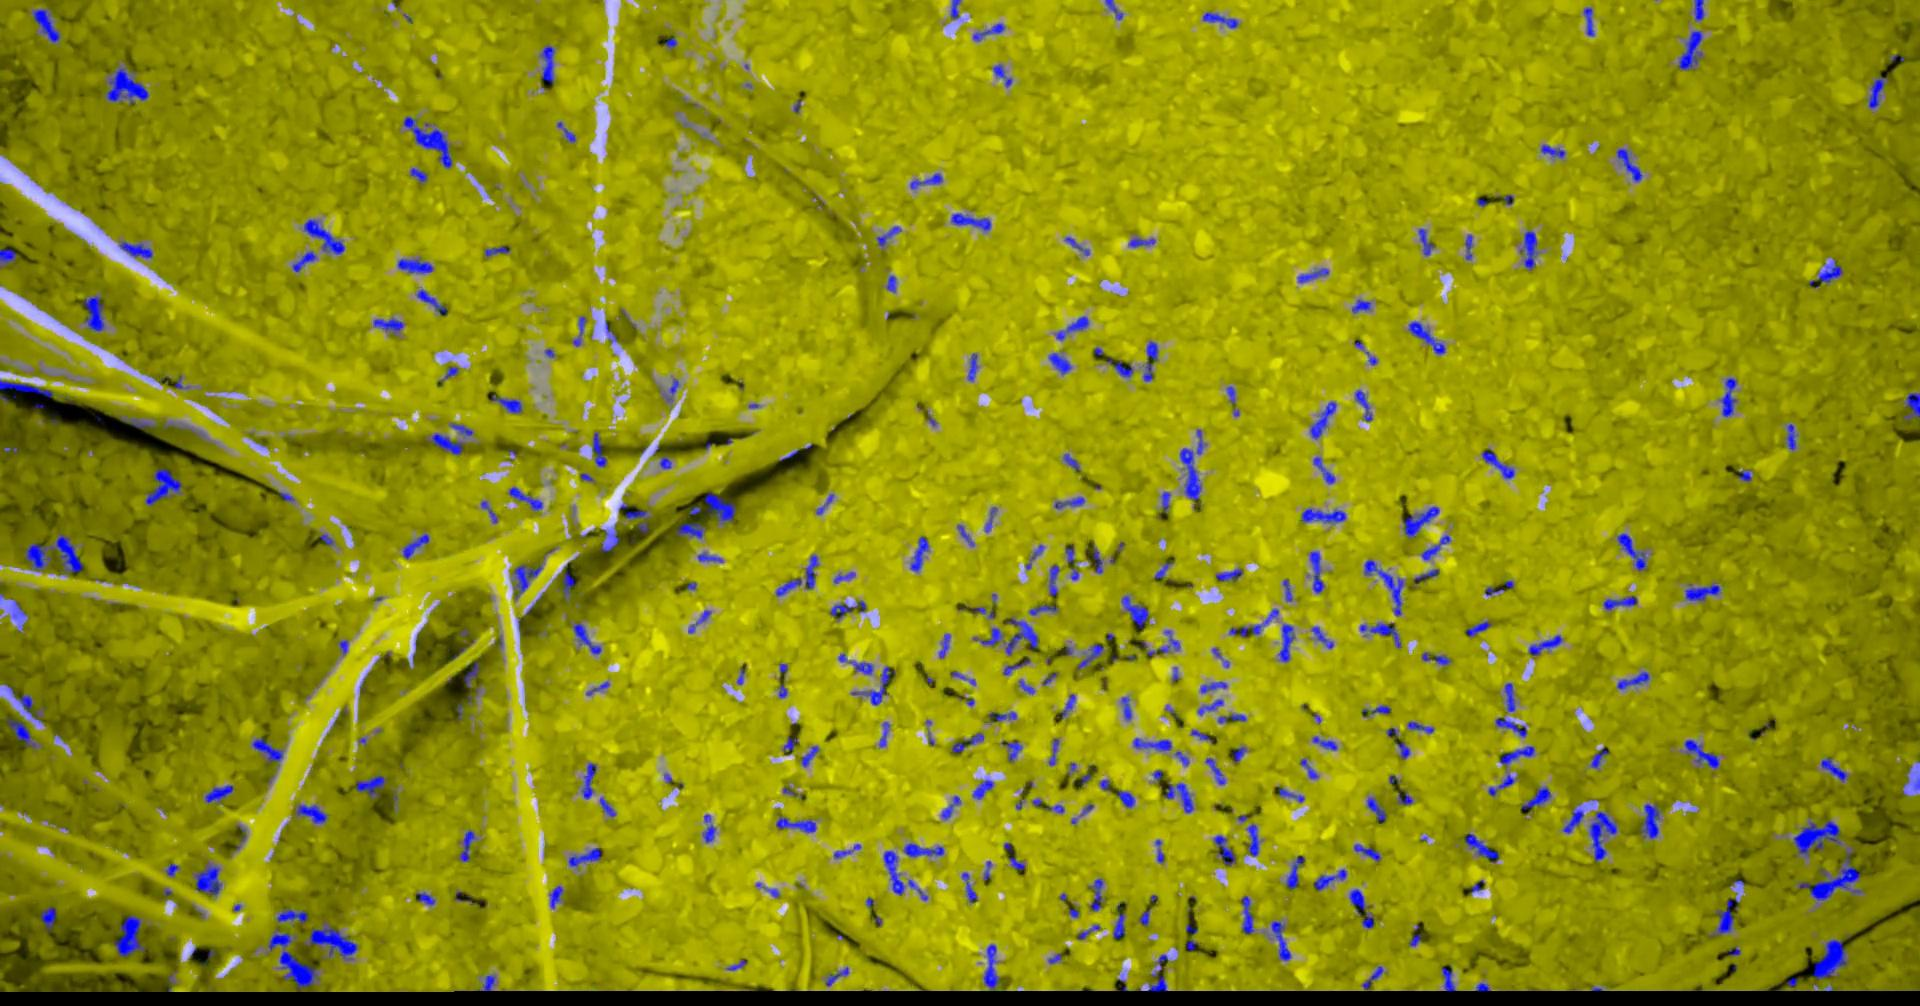ant: (1801, 850, 1863, 901), (269, 929, 320, 989), (405, 116, 453, 168), (25, 533, 84, 573), (885, 850, 930, 901), (1366, 559, 1404, 615), (306, 923, 359, 959), (1181, 429, 1206, 500), (777, 554, 820, 594), (1796, 819, 1843, 856), (853, 666, 897, 705), (108, 67, 150, 103), (305, 218, 345, 254), (1815, 939, 1849, 979), (1230, 608, 1280, 636), (1591, 810, 1618, 861), (147, 467, 183, 504), (1410, 320, 1448, 354), (116, 915, 146, 956), (9, 685, 43, 721), (1, 379, 55, 401), (1007, 617, 1040, 654), (1404, 506, 1441, 537), (1618, 533, 1648, 570), (1712, 898, 1740, 936), (1685, 739, 1721, 768), (1140, 630, 1181, 655), (1310, 401, 1337, 439), (1465, 833, 1500, 862), (1361, 622, 1402, 647), (1679, 30, 1704, 69), (1123, 594, 1150, 629), (706, 493, 737, 523), (620, 502, 650, 532), (574, 622, 603, 654), (1483, 450, 1516, 478), (516, 564, 543, 597), (34, 8, 61, 42), (254, 735, 284, 765), (1166, 781, 1195, 812), (9, 716, 37, 747), (197, 864, 223, 895), (1618, 149, 1643, 180), (510, 486, 543, 511), (84, 295, 105, 332), (1272, 920, 1291, 960), (1641, 803, 1662, 838), (418, 290, 450, 314), (1058, 316, 1090, 340), (1316, 868, 1349, 890), (1149, 954, 1170, 991), (1530, 634, 1563, 655), (841, 653, 874, 674), (1078, 643, 1105, 669), (830, 600, 867, 619), (985, 944, 1001, 989), (1501, 746, 1537, 765), (1423, 535, 1451, 559), (430, 433, 463, 453), (952, 732, 985, 752), (1523, 786, 1552, 809), (357, 775, 387, 796), (1215, 835, 1237, 865), (952, 213, 992, 230), (1521, 230, 1538, 269), (1722, 377, 1738, 417), (1869, 76, 1890, 108), (404, 533, 430, 558), (1822, 757, 1849, 781), (912, 536, 930, 572), (563, 567, 582, 600), (570, 847, 603, 866), (1303, 508, 1347, 522), (1144, 340, 1159, 381), (1310, 551, 1326, 592), (1280, 624, 1297, 661), (1004, 842, 1026, 870), (777, 817, 817, 832), (1204, 11, 1239, 28), (1686, 583, 1722, 600), (1618, 671, 1651, 688), (1288, 855, 1305, 888), (493, 394, 523, 413), (1497, 716, 1528, 735), (298, 804, 329, 823), (1490, 774, 1516, 795), (582, 763, 598, 798), (974, 23, 1006, 41), (1818, 260, 1844, 282), (121, 241, 154, 258), (399, 258, 434, 273), (593, 432, 608, 467), (1316, 456, 1336, 483), (542, 44, 556, 83), (461, 829, 477, 861), (690, 610, 712, 633), (1364, 965, 1385, 989), (206, 784, 235, 801), (1109, 357, 1134, 377), (1356, 390, 1373, 420), (1134, 737, 1173, 749), (905, 843, 945, 856), (975, 627, 1003, 645), (1050, 352, 1073, 373), (877, 226, 902, 246), (1368, 796, 1388, 821), (1564, 809, 1585, 833), (912, 173, 943, 188), (677, 522, 706, 539), (1208, 757, 1225, 784), (1313, 626, 1335, 648), (1299, 267, 1330, 282), (278, 907, 309, 922), (1420, 227, 1436, 255), (293, 251, 317, 271), (943, 795, 963, 819), (1065, 238, 1091, 255), (963, 873, 978, 902), (1467, 620, 1493, 636), (465, 661, 481, 687), (1355, 843, 1382, 860), (1351, 888, 1368, 915), (1003, 739, 1023, 761), (974, 779, 996, 799), (994, 64, 1013, 86), (1604, 596, 1638, 608), (1243, 895, 1255, 934), (375, 318, 405, 332), (1905, 392, 1920, 420), (1199, 699, 1224, 715), (1114, 904, 1126, 937), (603, 528, 621, 551), (1004, 659, 1031, 674), (1592, 746, 1610, 768), (827, 967, 850, 984), (1091, 878, 1103, 909), (41, 906, 57, 930), (1423, 652, 1451, 666), (703, 814, 717, 842), (1302, 758, 1321, 779), (959, 525, 977, 546), (1248, 823, 1260, 856), (574, 316, 587, 345), (1057, 495, 1086, 508), (1062, 694, 1077, 718), (1050, 564, 1062, 596), (559, 121, 577, 141), (122, 417, 157, 427), (803, 746, 820, 766), (483, 500, 499, 522), (1217, 568, 1244, 580), (1280, 788, 1305, 801), (1443, 965, 1457, 991), (1228, 386, 1239, 417), (1106, 0, 1124, 19), (1156, 561, 1175, 579), (1542, 144, 1566, 158), (1314, 735, 1338, 749), (1363, 705, 1392, 716), (1079, 923, 1101, 939), (985, 507, 998, 532), (1415, 568, 1440, 580), (1585, 8, 1596, 36), (451, 422, 474, 436), (1117, 790, 1137, 807), (601, 796, 617, 815), (940, 633, 952, 657), (1506, 682, 1516, 711), (668, 379, 681, 401), (1787, 423, 1798, 448), (1203, 681, 1228, 692), (1410, 721, 1435, 733), (880, 721, 891, 747), (551, 885, 564, 908), (990, 711, 1018, 721), (1219, 713, 1247, 723), (971, 606, 996, 617), (1192, 729, 1214, 742), (969, 353, 979, 380), (1065, 453, 1081, 471), (1031, 605, 1058, 615), (1050, 738, 1060, 765), (1396, 741, 1411, 758), (479, 976, 497, 991), (1352, 298, 1371, 312), (1093, 547, 1103, 573), (411, 166, 428, 182), (1, 248, 17, 264), (836, 572, 857, 583), (486, 246, 510, 257), (1284, 578, 1294, 601), (1123, 696, 1133, 719), (1399, 789, 1415, 804), (785, 735, 799, 752), (1363, 912, 1377, 929), (1130, 238, 1156, 246), (698, 553, 724, 561), (418, 892, 436, 904), (1234, 746, 1247, 762), (1157, 840, 1166, 862), (168, 862, 182, 876), (952, 0, 963, 19), (1465, 234, 1473, 259), (1163, 492, 1172, 513), (1697, 0, 1705, 20), (446, 366, 460, 379), (1738, 469, 1752, 481), (1140, 909, 1150, 926), (888, 276, 897, 292), (662, 455, 673, 467), (1067, 546, 1076, 561)
